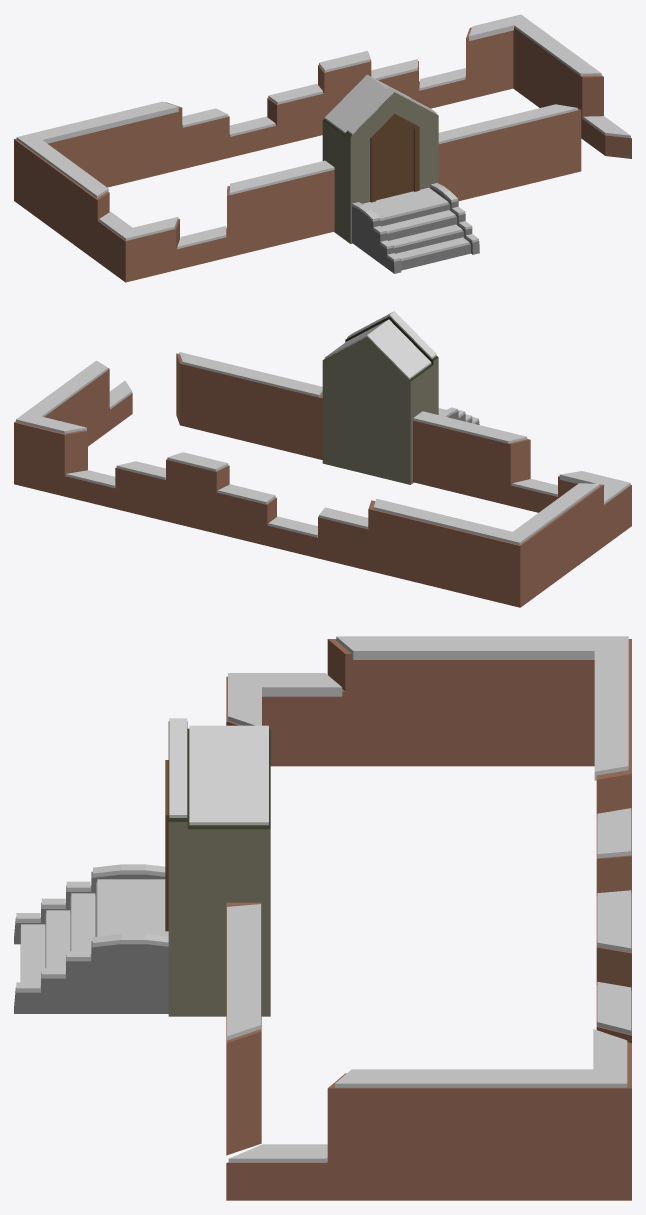
File: University_build_snow_mat.fbx
3 views of the same model, one above another, from view 1: azimuth 30°, elevation 25°; view 2: azimuth 150°, elevation 25°; view 3: azimuth 270°, elevation 25° (orthographic). The views are drawn at different scales.
Parts seen in each view (by area): view 1: University_build_snow_mat; view 2: University_build_snow_mat; view 3: University_build_snow_mat.
Part boxes in pixels (box(x1,y1,x2,y2)): University_build_snow_mat: box(14, 14, 631, 282); University_build_snow_mat: box(14, 311, 631, 607); University_build_snow_mat: box(14, 636, 631, 1200).
Size of the model in its own units: 1287 by 347 by 748.
